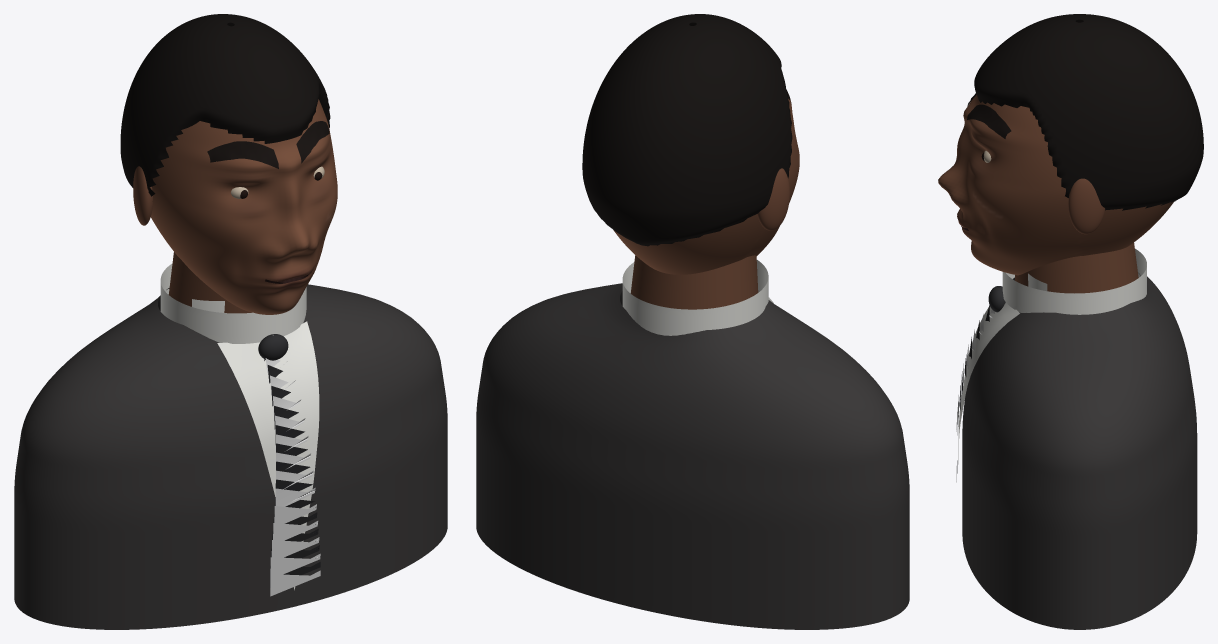
The model's file is fanon.glb.
3 renders of one model, left to right at view 1: azimuth 30°, elevation 25°; view 2: azimuth 150°, elevation 25°; view 3: azimuth 270°, elevation 25°, orthographic. The views are drawn at different scales.
Visible parts, largest first — view 1: jacket, head, hair, shirt, tie, collarband, neck, brow0, ear0, brow1, knot; view 2: jacket, hair, head, neck, collarband, ear0; view 3: jacket, hair, head, neck, collarband, ear1, shirt, brow1, tie.
Part boxes in pixels (x1,y1,x2,y2): jacket: (14, 284, 447, 629); head: (151, 99, 337, 314); hair: (120, 14, 330, 196); shirt: (217, 321, 319, 590); tie: (264, 358, 320, 596); collarband: (160, 263, 306, 343); neck: (168, 252, 251, 313); brow0: (207, 141, 278, 168); ear0: (133, 166, 152, 225); brow1: (296, 121, 329, 163); knot: (258, 334, 288, 360); jacket: (476, 283, 909, 629); hair: (582, 14, 792, 246); head: (613, 99, 799, 274); neck: (630, 255, 758, 309); collarband: (622, 260, 768, 335); ear0: (757, 168, 789, 230); jacket: (962, 272, 1197, 629); hair: (974, 14, 1203, 210); head: (938, 95, 1174, 275); neck: (1015, 242, 1138, 293); collarband: (1002, 248, 1146, 314); ear1: (1068, 178, 1105, 234); shirt: (958, 302, 1019, 464); brow1: (967, 104, 1011, 138); tie: (956, 305, 994, 482).
Bounding box in the file's own units: 0.37 × 0.4572 × 0.215.
